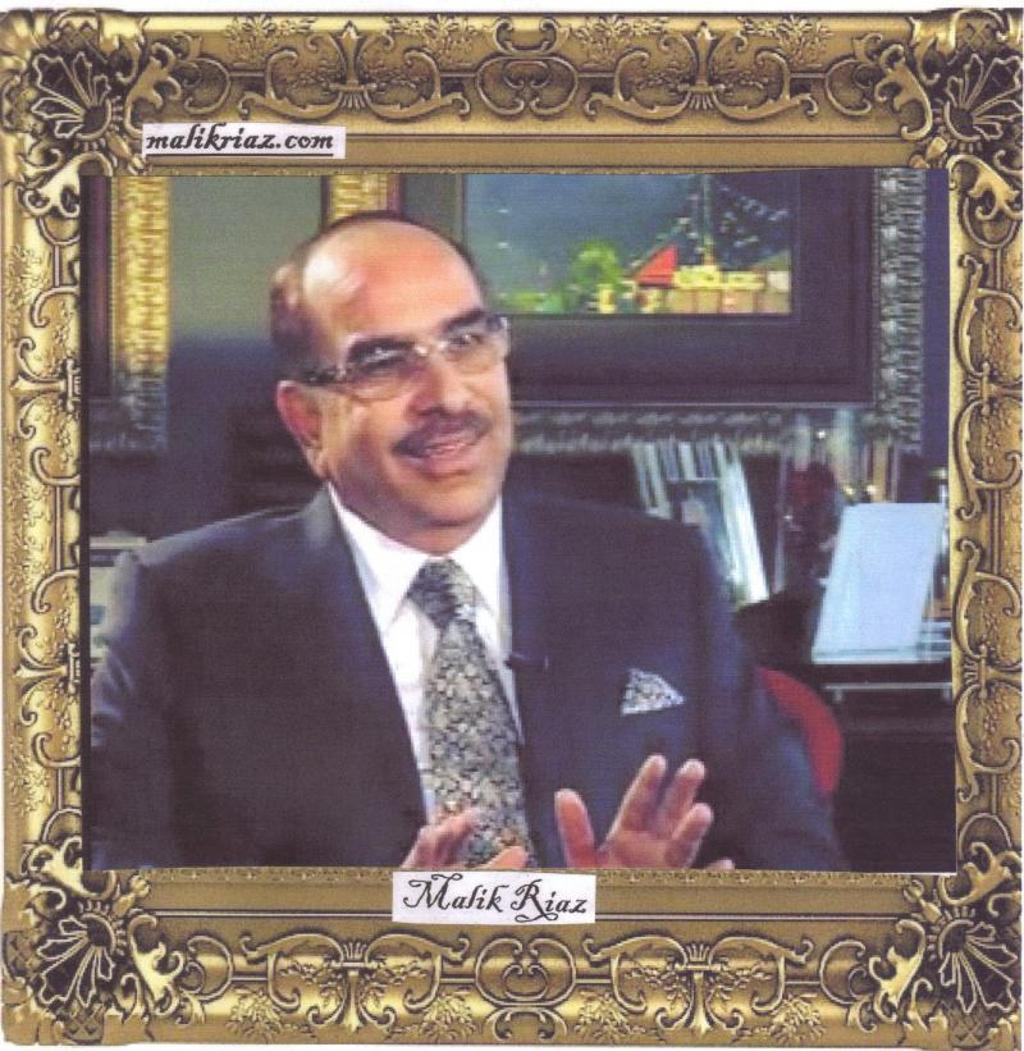face: (310, 246, 513, 519)
